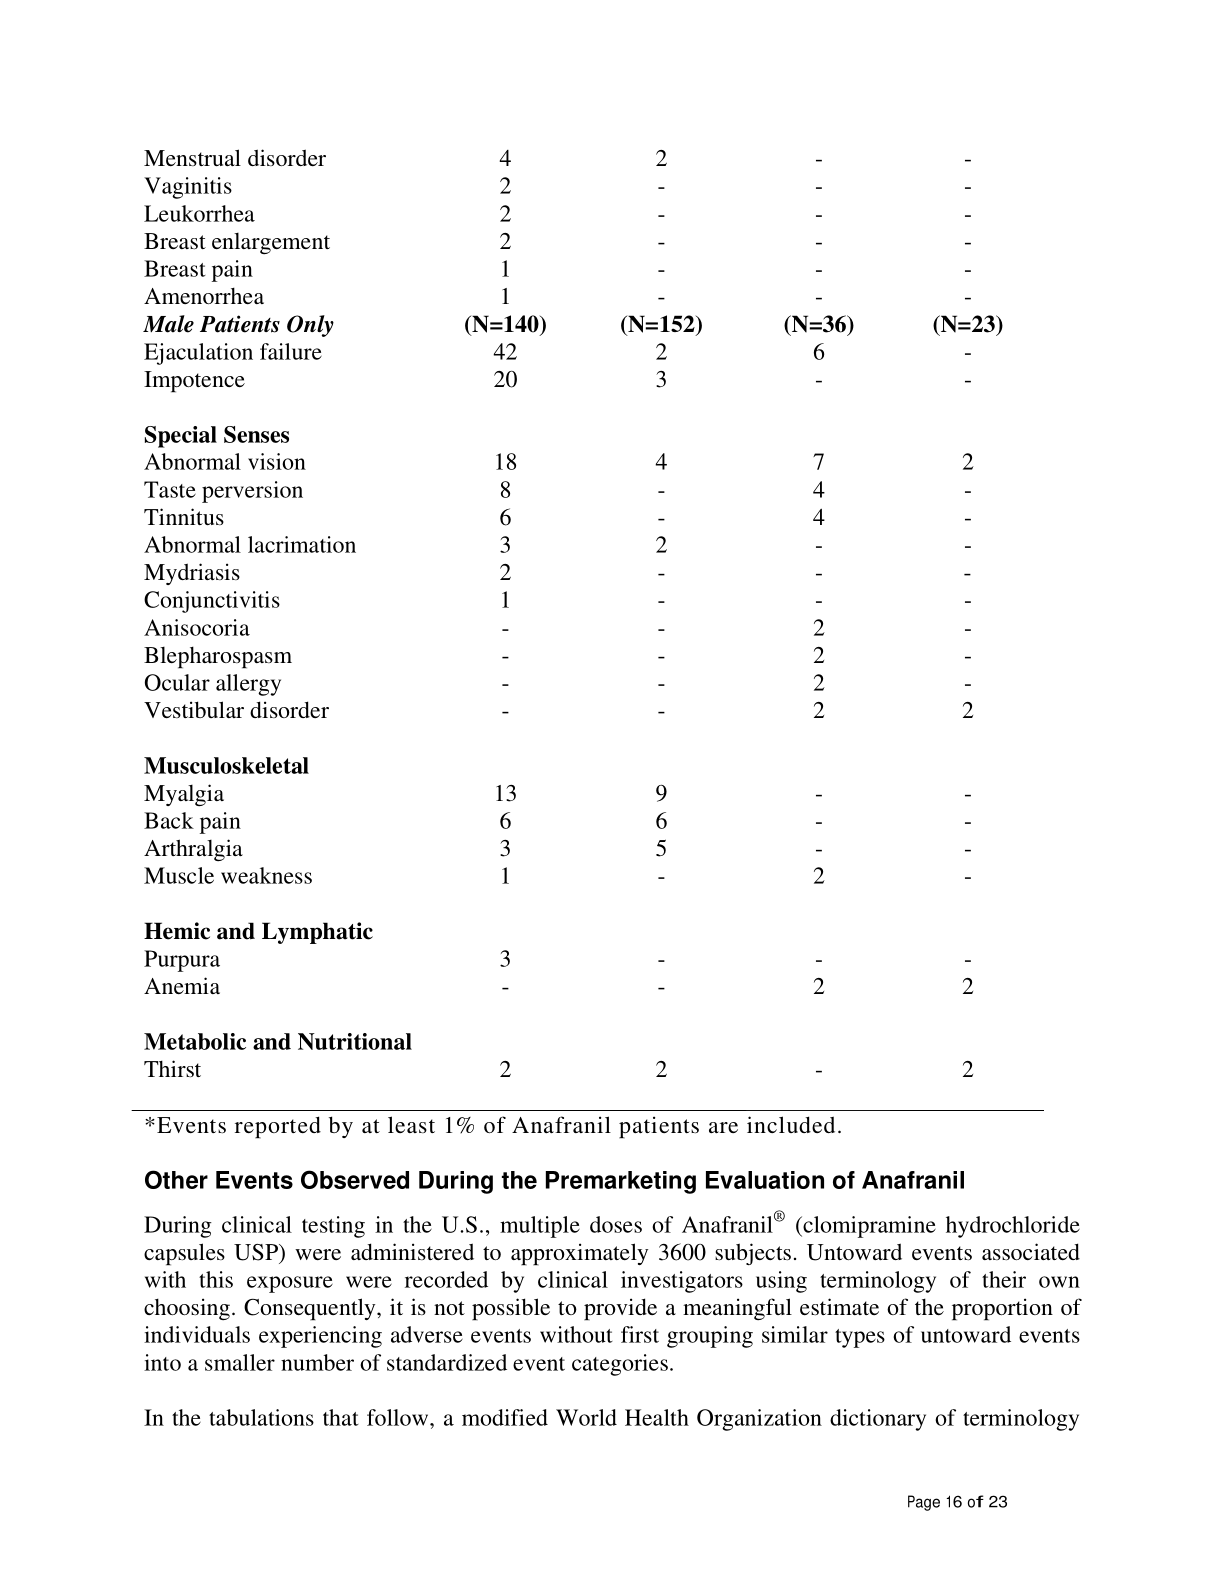nolines: (138, 138, 1005, 1086)
